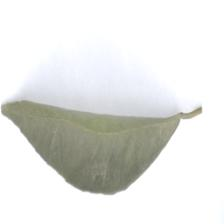healthy: (2, 94, 206, 198)
